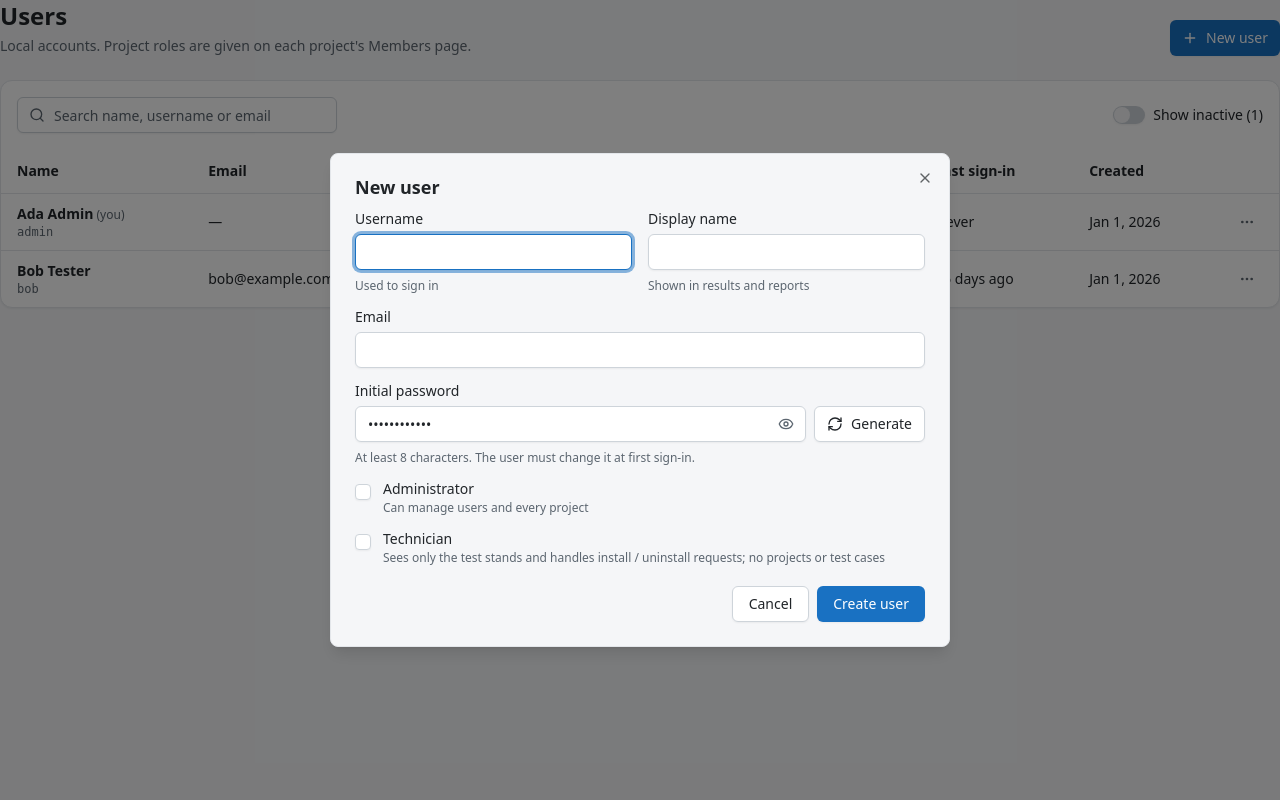
Test: UsersPage › creates a user and shows the initial credentials once
The image size is (1280, 800).
Earlier steps of the test are not shown.
Click the button "Generate". click: coordinates (870, 424)
box: [814, 406, 925, 442]
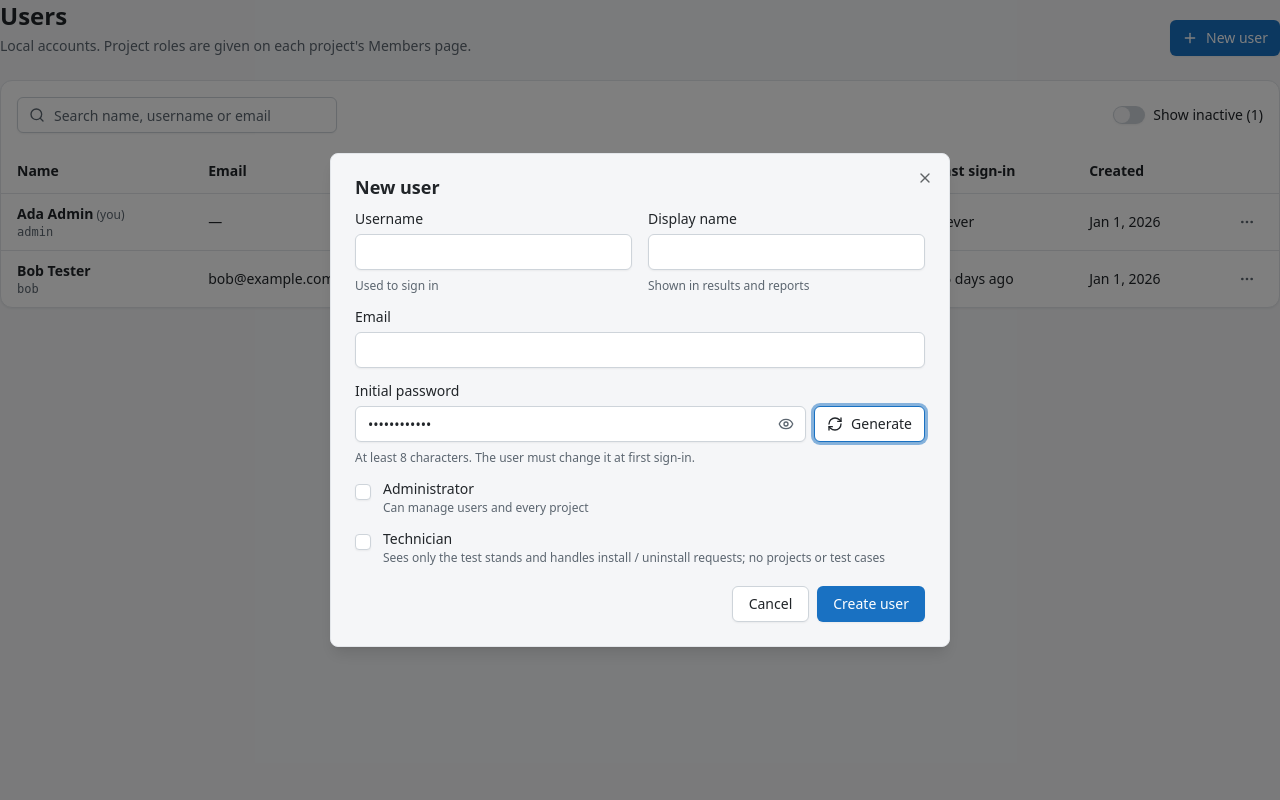
Type "dan.t" into the field labelled "Username". click: coordinates (494, 252)
box: [355, 234, 632, 270]
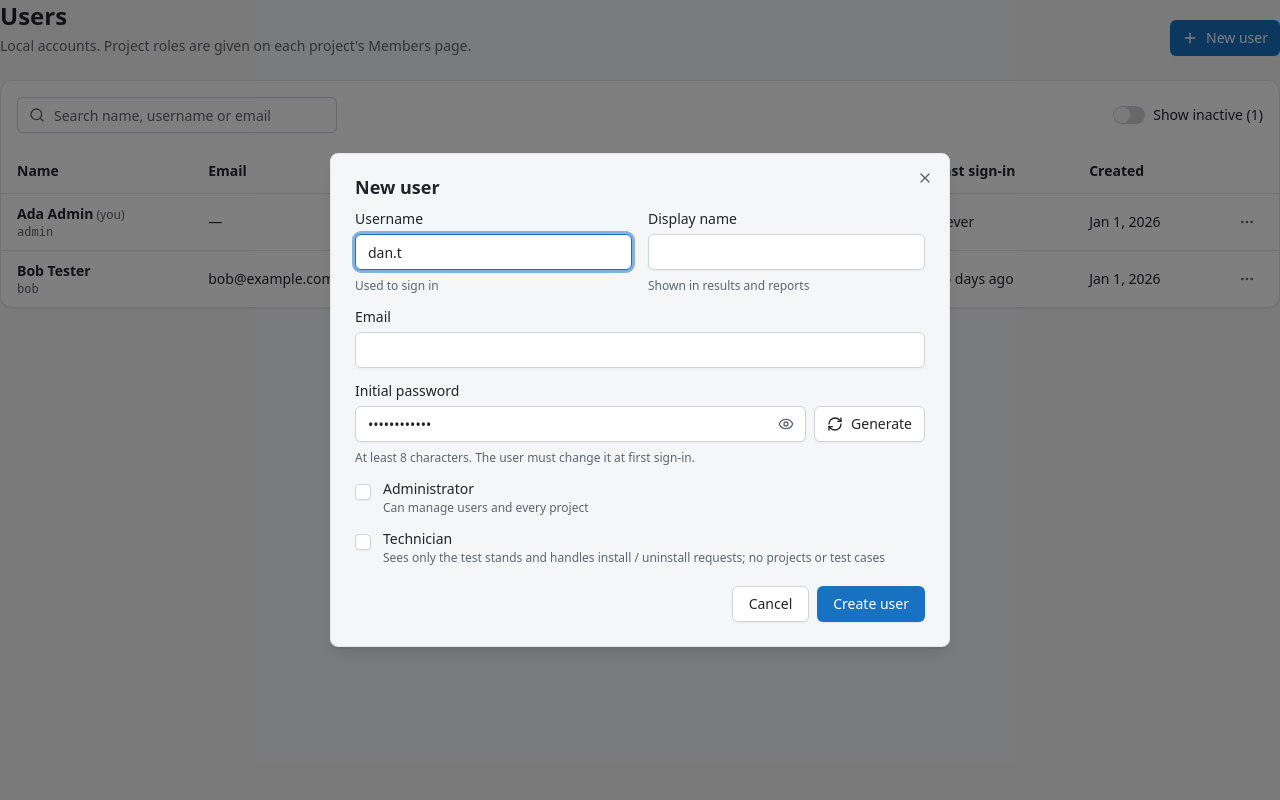
Type "Dan Tester" into the field labelled "Display name". click: coordinates (786, 252)
box: [648, 234, 925, 270]
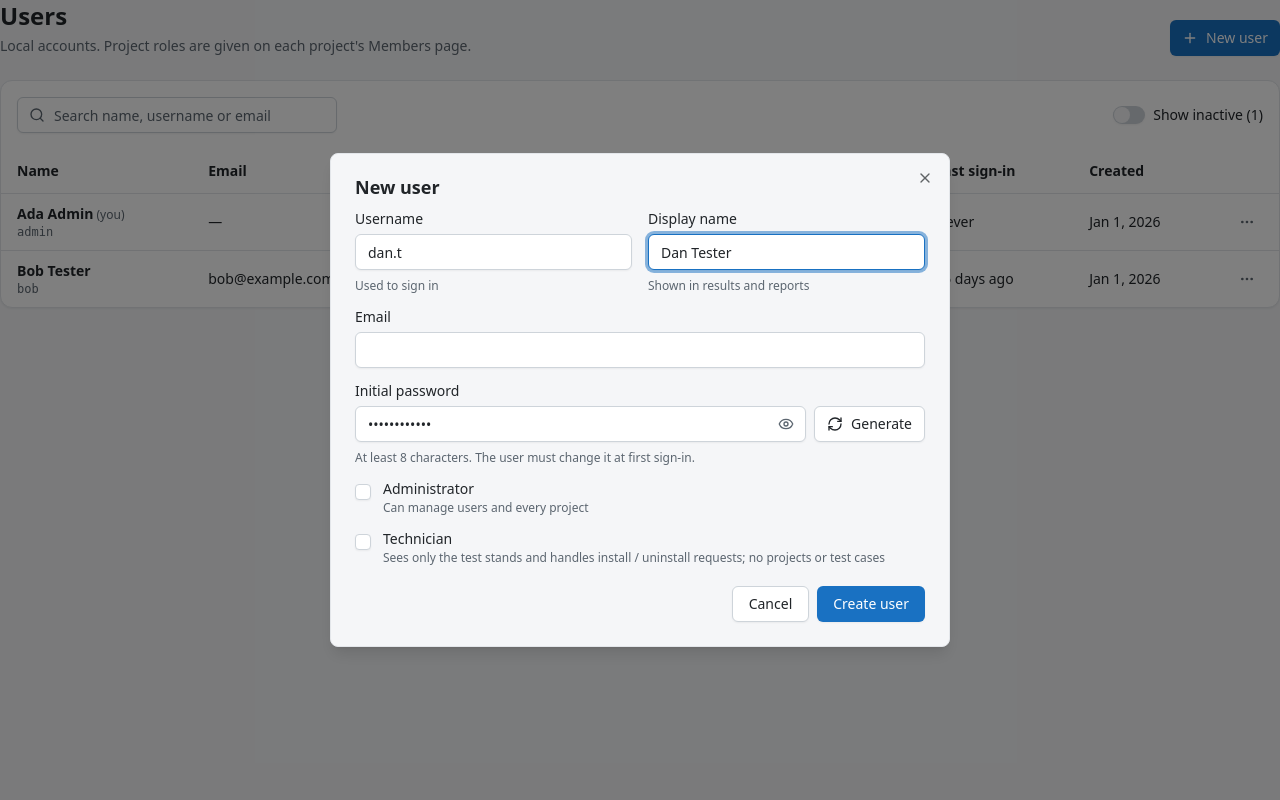
Click the 1st checkbox named "Administrator". click: coordinates (363, 492)
box: [355, 484, 371, 500]
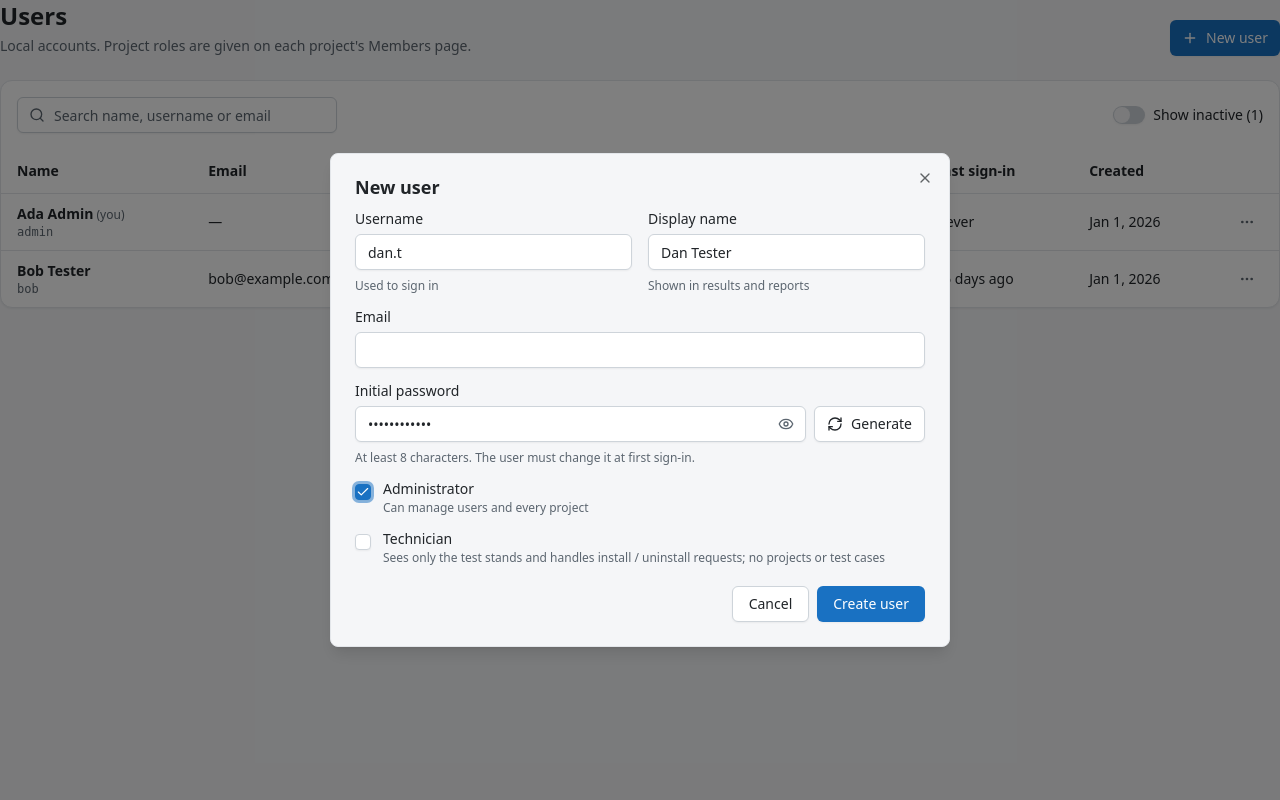
Click the button "Create user". click: coordinates (871, 604)
box: [817, 586, 925, 622]
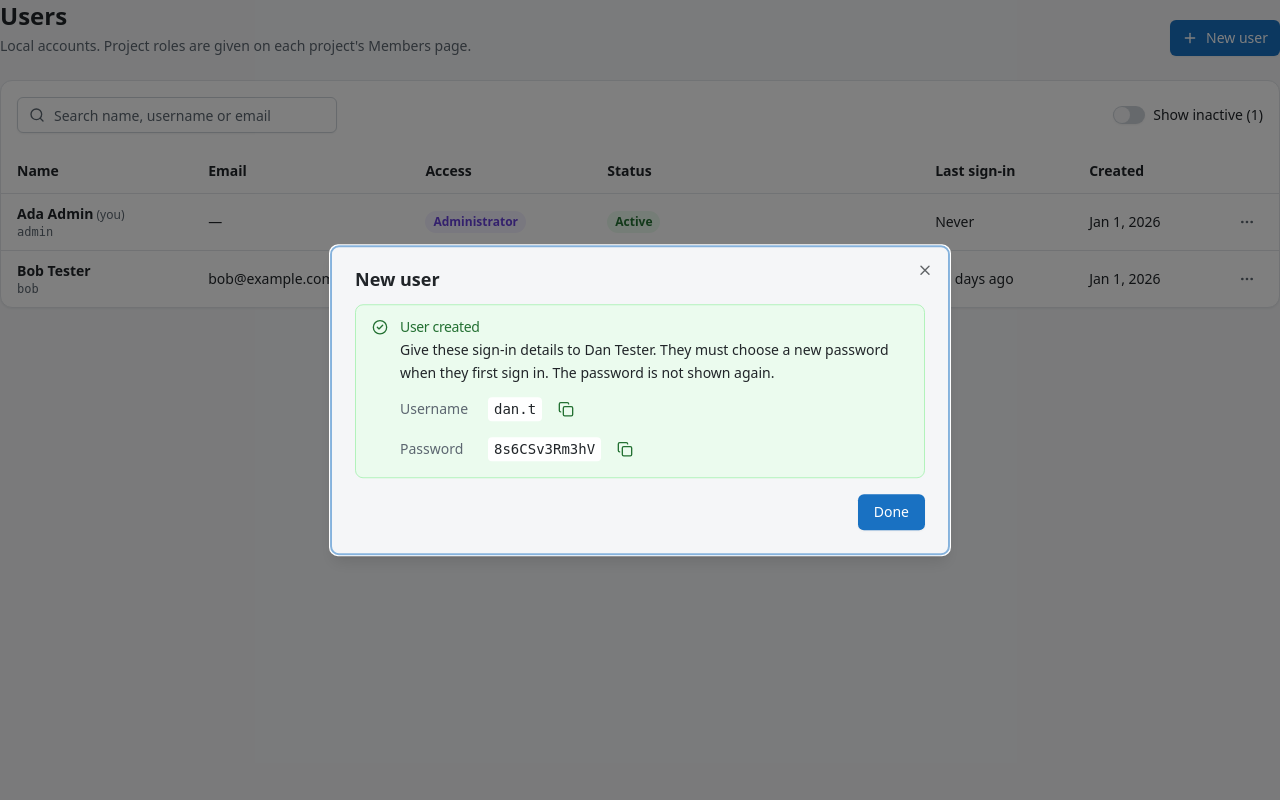
Result: the text "User created" is shown at [400, 317, 480, 336]
Result: the text "dan.t" is shown at [488, 397, 542, 421]
Result: the button named "Copy password" is shown at [609, 433, 641, 465]
Click the button "Done". click: coordinates (891, 512)
box: [858, 494, 925, 530]
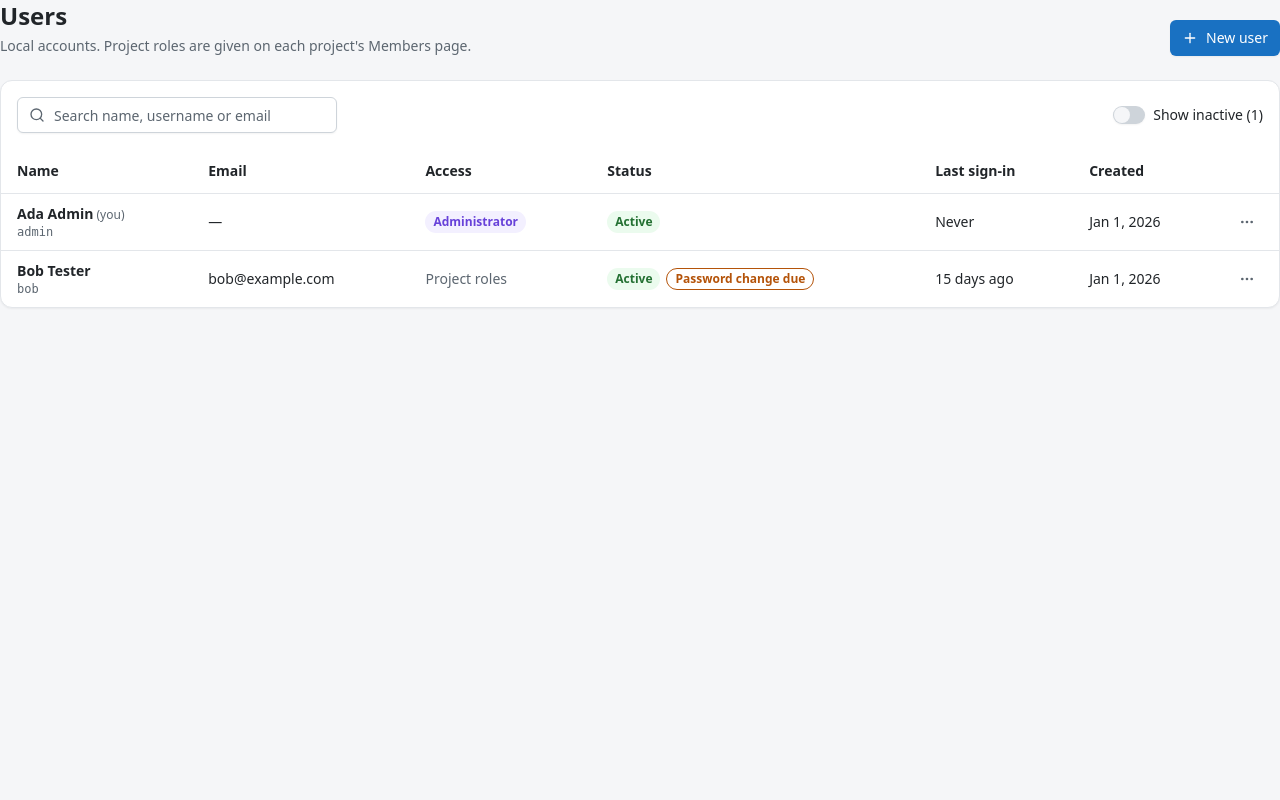
Result: the dialog is gone
